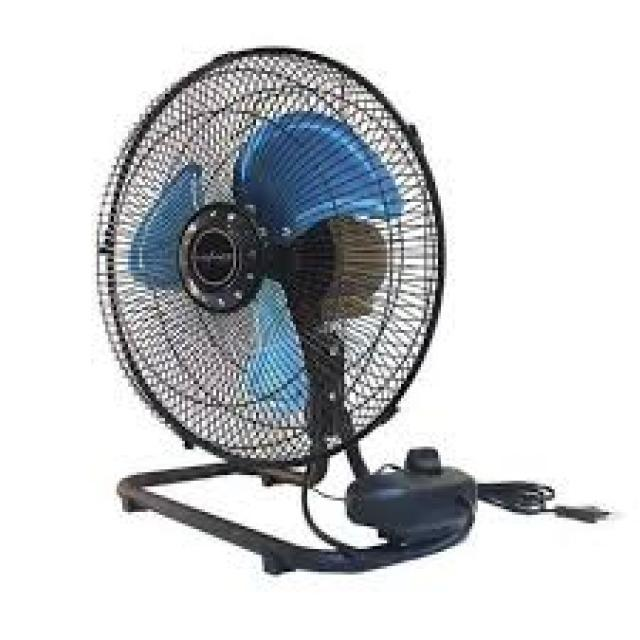fan: (64, 26, 626, 592)
